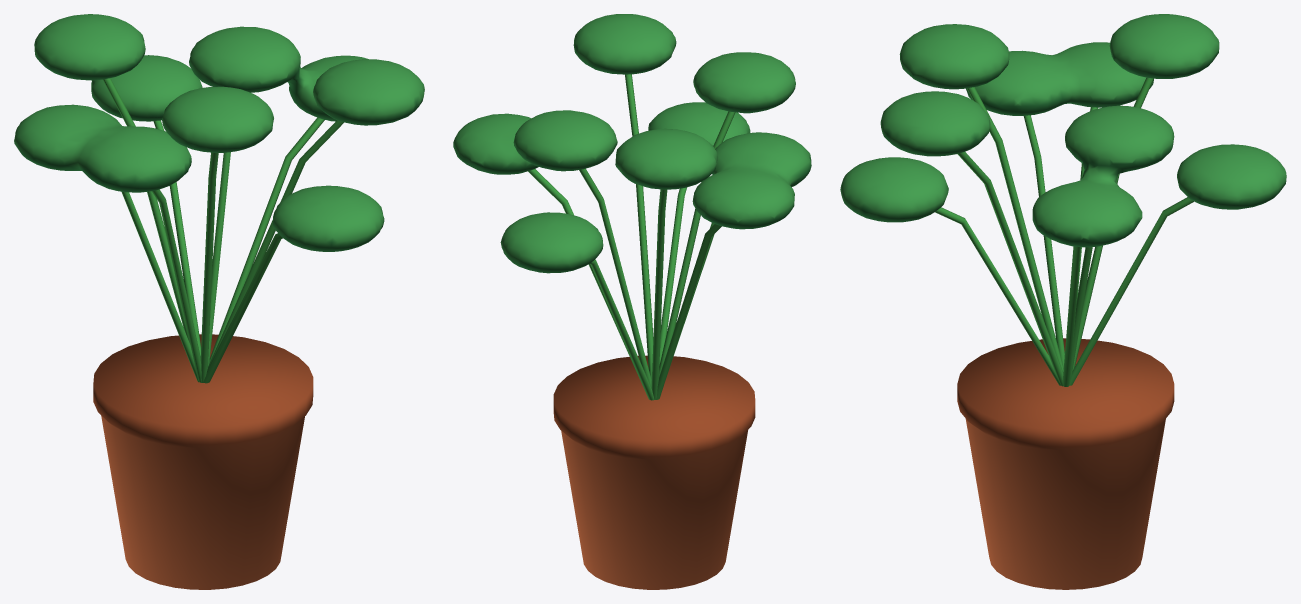
The model's file is potted_plant.glb.
3 views of the same model, side by side, from view 1: azimuth 30°, elevation 25°; view 2: azimuth 150°, elevation 25°; view 3: azimuth 270°, elevation 25° (orthographic). The views are drawn at different scales.
Parts seen in each view (by area): view 1: potted_plant; view 2: potted_plant; view 3: potted_plant.
Part boxes in pixels (x1,y1,x2,y2): potted_plant: (14,14,424,589); potted_plant: (453,14,811,589); potted_plant: (840,14,1286,589).
Bounding box in the file's own units: 0.6504 × 0.871 × 0.6992.
